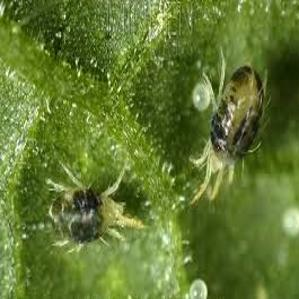spider mite: (161, 62, 278, 213), (26, 148, 143, 274)
